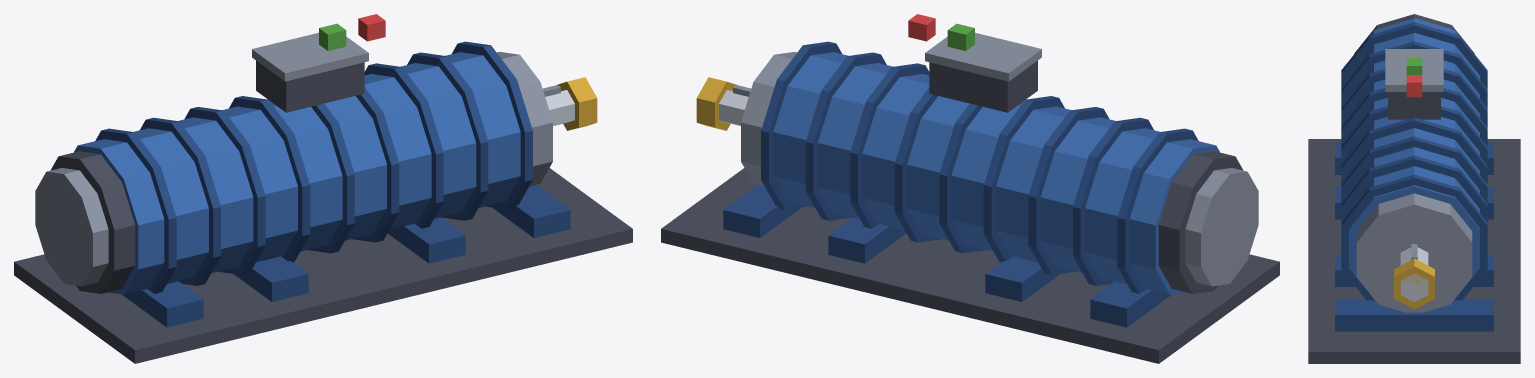
Rendered from motor-strong.glb.
The picture shows the model from 3 angles, left to right: view 1: azimuth 30°, elevation 25°; view 2: azimuth 150°, elevation 25°; view 3: azimuth 270°, elevation 25°; orthographic projection. The views are drawn at different scales.
Parts seen in each view (by area): view 1: motor-strong, spin-x; view 2: motor-strong, spin-x; view 3: motor-strong, spin-x.
Boxes of the visible parts, box(x1,y1,x2,y2) form: motor-strong: box(14, 14, 632, 363); spin-x: box(543, 77, 597, 130); motor-strong: box(661, 14, 1279, 363); spin-x: box(696, 77, 750, 130); motor-strong: box(1308, 14, 1520, 363); spin-x: box(1394, 244, 1434, 309).
Size of the model in its own units: 1.99 by 0.83 by 0.8.
Materials: 2 (2 with a texture image).
